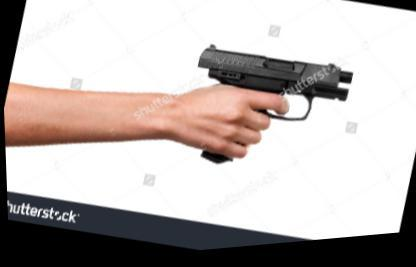pistol: (174, 34, 357, 196)
